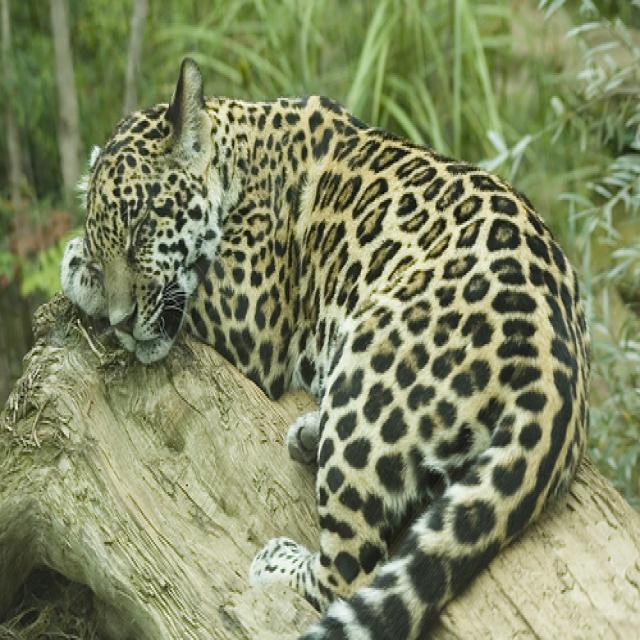Leopard: (58, 54, 588, 636)
